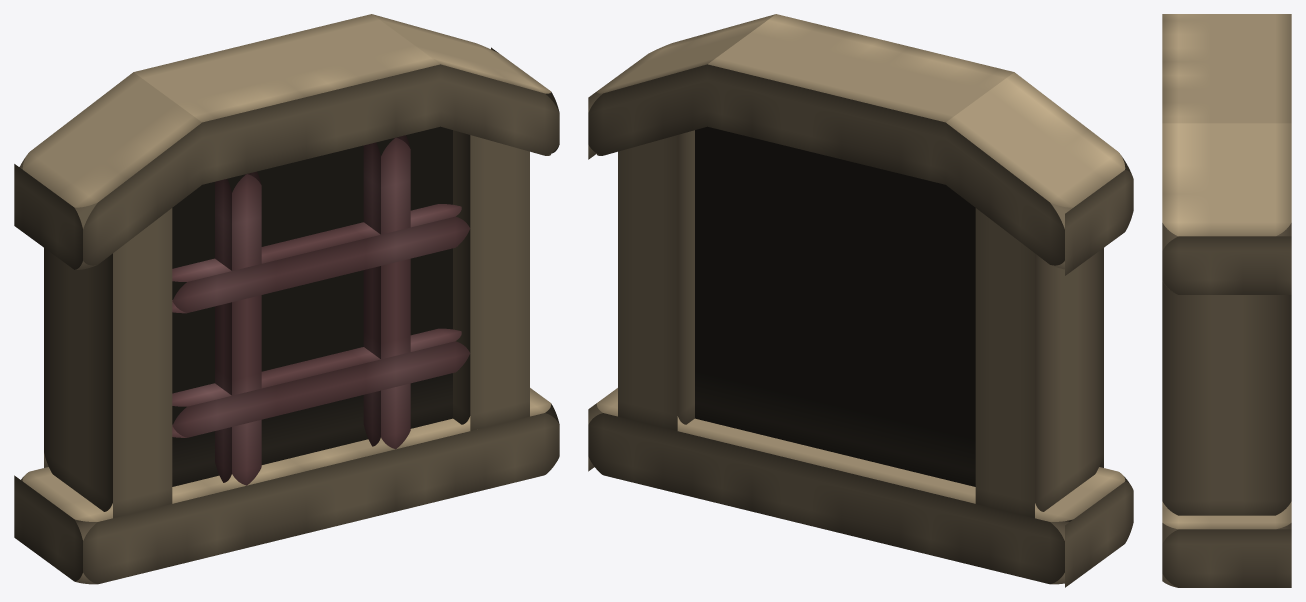
The model's file is Fortress_Window_01.fbx.
The picture shows the model from 3 angles, left to right: view 1: azimuth 30°, elevation 25°; view 2: azimuth 150°, elevation 25°; view 3: azimuth 270°, elevation 25°; orthographic projection. The views are drawn at different scales.
Parts seen in each view (by area): view 1: Fortress_Window_01; view 2: Fortress_Window_01; view 3: Fortress_Window_01.
Part boxes in pixels (x1=…): Fortress_Window_01: x1=14, y1=14, x2=559, y2=584; Fortress_Window_01: x1=588, y1=14, x2=1133, y2=587; Fortress_Window_01: x1=1162, y1=14, x2=1291, y2=587.
Size of the model in its own units: 100 by 87.5 by 25.
